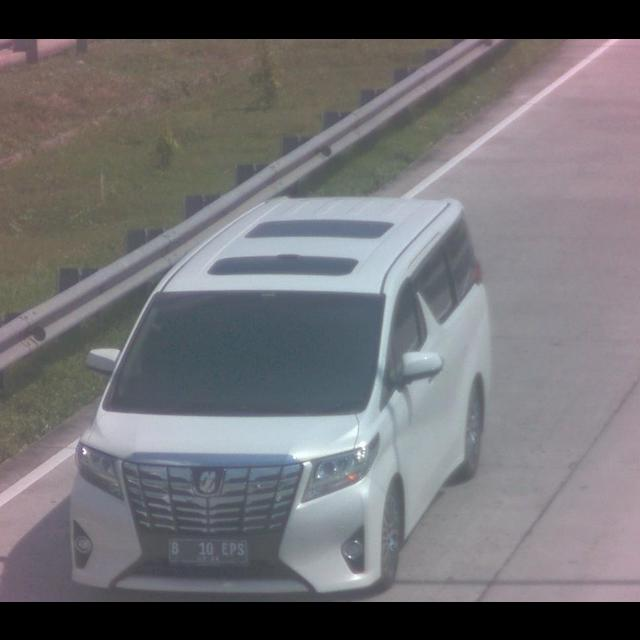plate: (166, 536, 252, 564)
